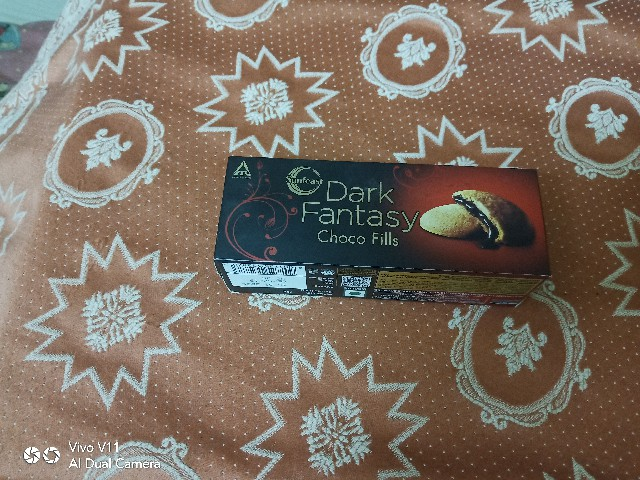darkfantasy big: (207, 131, 583, 315)
